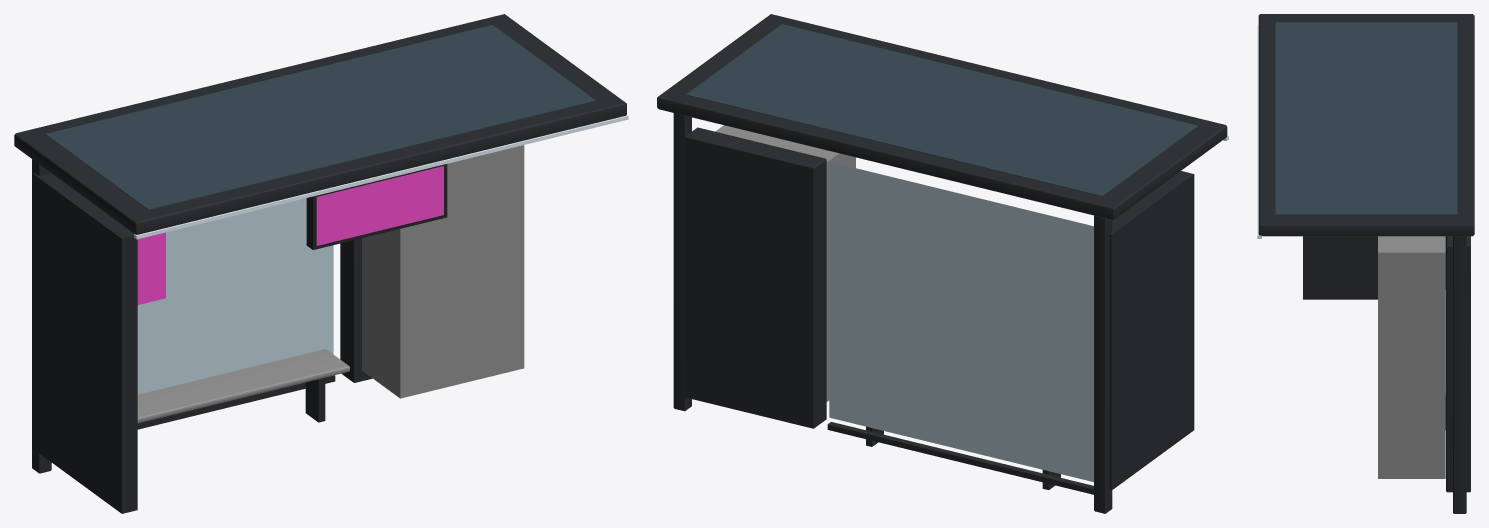
The model's file is St_TramShelter.fbx.
The picture shows the model from 3 angles, left to right: view 1: azimuth 30°, elevation 25°; view 2: azimuth 150°, elevation 25°; view 3: azimuth 270°, elevation 25°; orthographic projection. The views are drawn at different scales.
Parts seen in each view (by area): view 1: St_TramShelter_LOD0; view 2: St_TramShelter_LOD0; view 3: St_TramShelter_LOD0.
Part boxes in pixels (x1,y1,x2,y2): St_TramShelter_LOD0: (14,14,628,513); St_TramShelter_LOD0: (657,14,1228,513); St_TramShelter_LOD0: (1257,14,1474,513).
Size of what is drawn, in the model's own units: 4.4 by 2.88 by 1.91.
